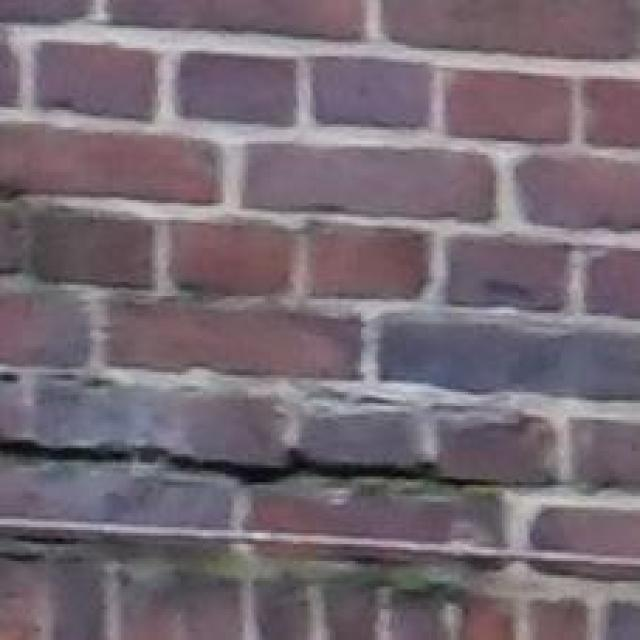Crack: (0, 387, 561, 576)
